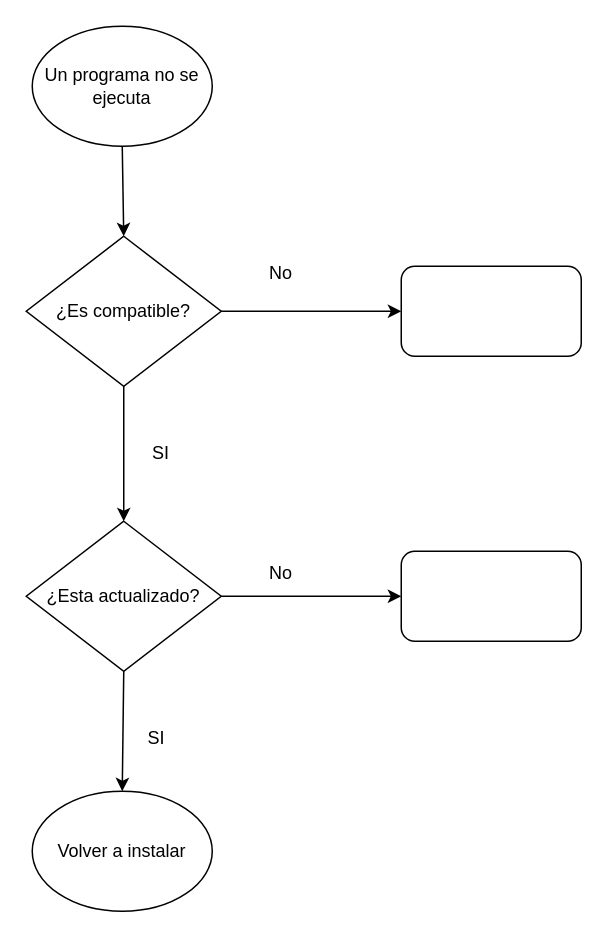
This 608x938 diagram has some shape labels left out. Each missing label, with the centre of its shape:
Actualizar programa: the point at 490,595
Descargar versión compatible: the point at 490,310
